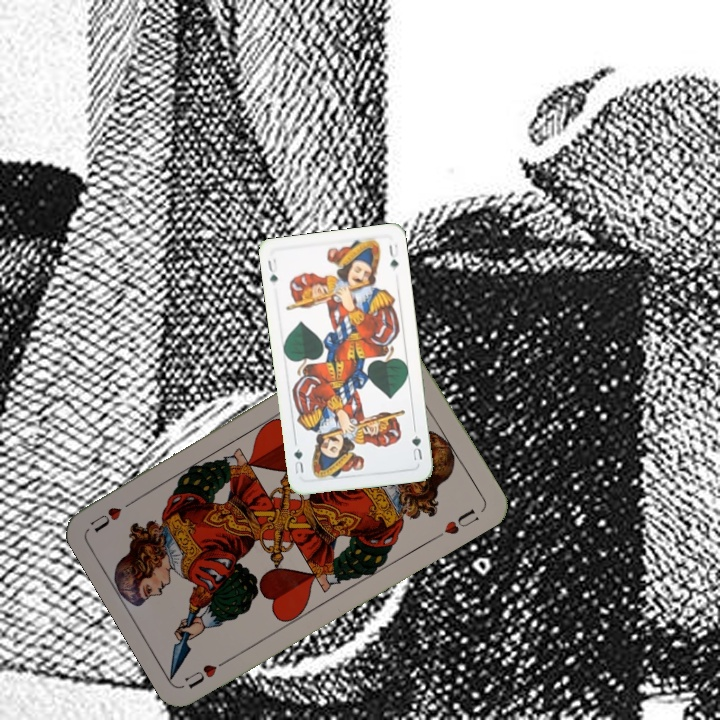GU: (407, 431, 425, 463), (264, 255, 280, 285)
HU: (180, 653, 235, 691)
